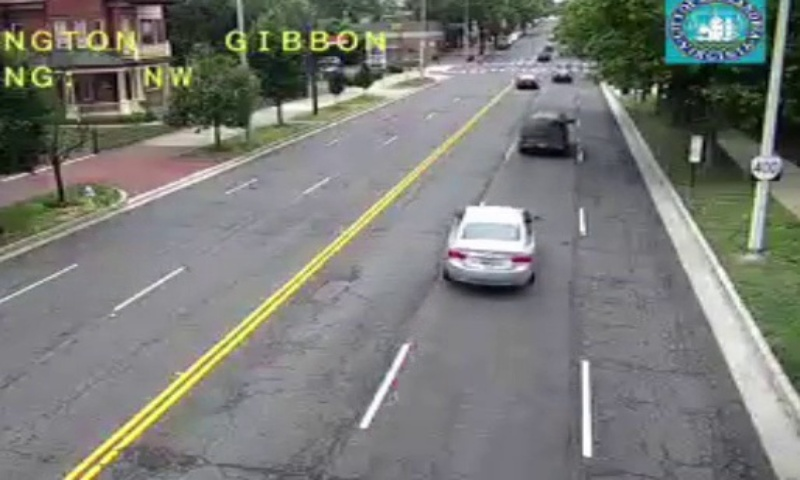car: (443, 204, 536, 286), (518, 111, 566, 152)
